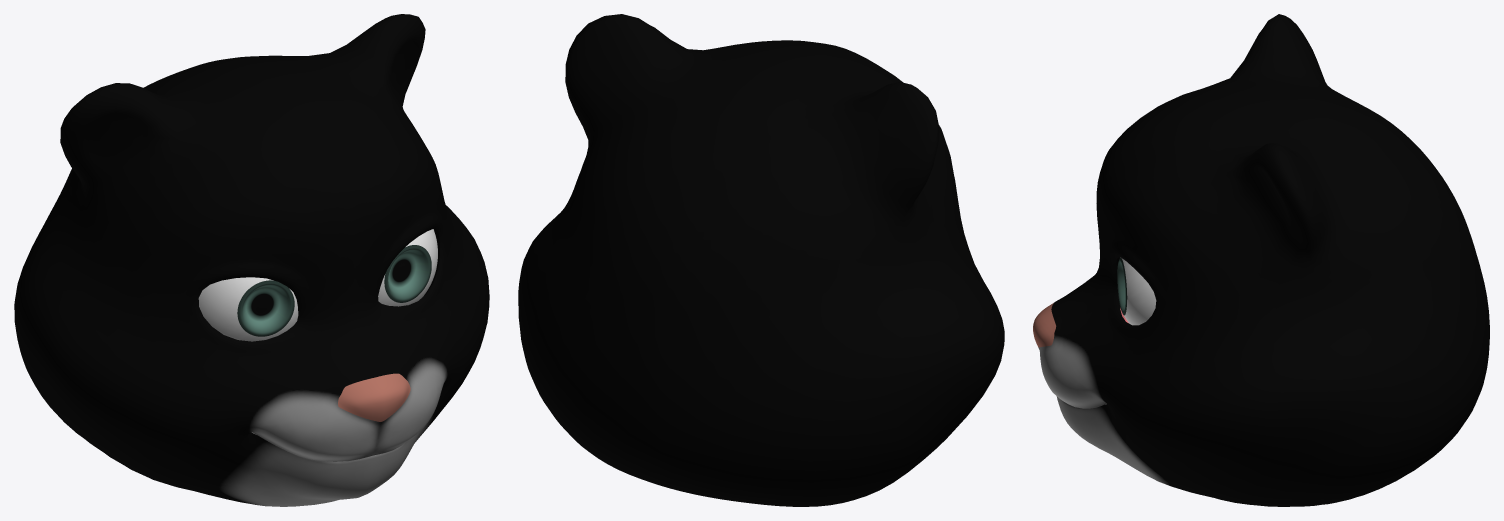
The model's file is blackpanther.glb.
The picture shows the model from 3 angles, left to right: view 1: azimuth 30°, elevation 25°; view 2: azimuth 150°, elevation 25°; view 3: azimuth 270°, elevation 25°; orthographic projection. The views are drawn at different scales.
Parts seen in each view (by area): view 1: head_geo; view 2: head_geo; view 3: head_geo.
Part boxes in pixels (bbox=[...]): head_geo: bbox=[14, 14, 489, 506]; head_geo: bbox=[518, 14, 1004, 506]; head_geo: bbox=[1033, 14, 1489, 506].
Size of what is drawn, in the model's own units: 0.7274 by 0.6766 by 0.7177.
7 materials, 2 textured.
